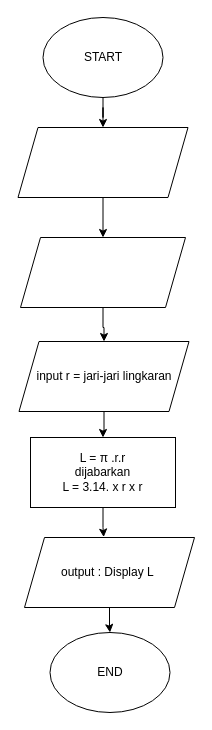
Image size: 212x730. Some labels were removed from this diagram. Each missing label, with the box of its shape:
inisialisasi L = hasil luas lingkaran: (17, 126, 188, 198)
Input π = 3.14: (20, 236, 186, 308)
